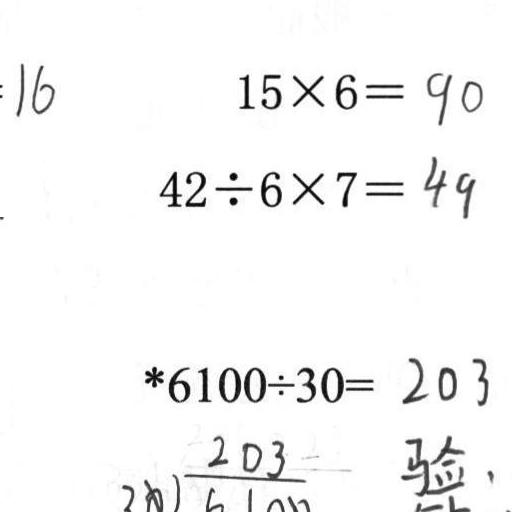ans: (400, 350, 489, 407), (421, 153, 479, 220), (422, 65, 483, 123), (9, 56, 55, 115)
